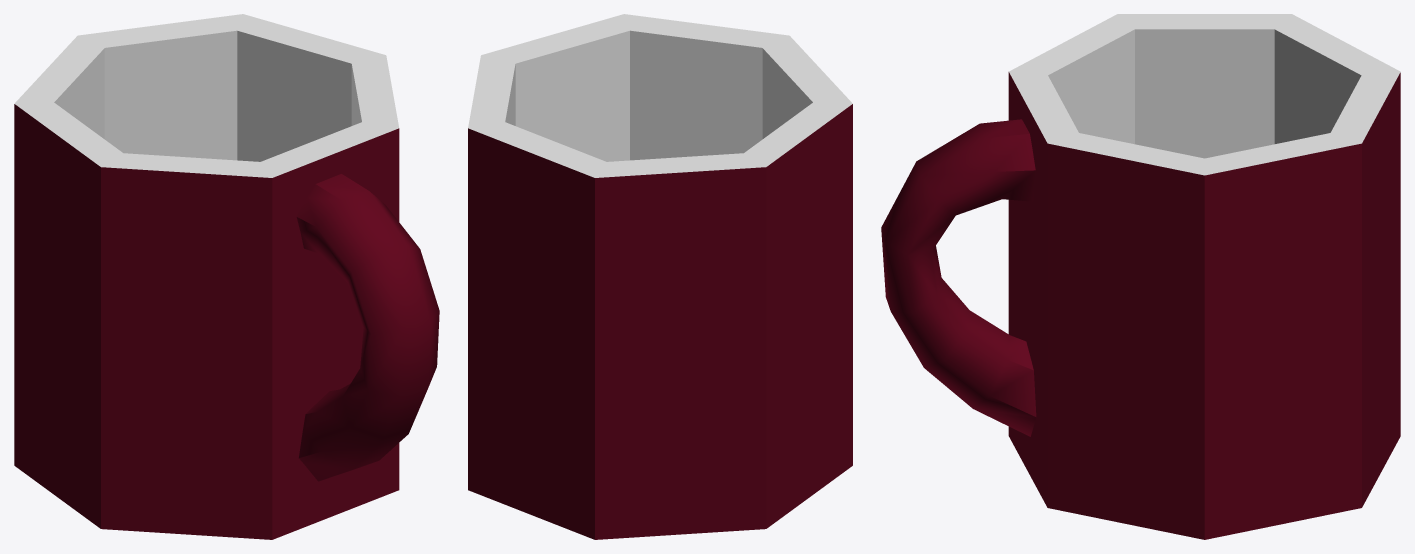
Rendered from Cup.fbx.
3 renders of one model, left to right at view 1: azimuth 30°, elevation 25°; view 2: azimuth 150°, elevation 25°; view 3: azimuth 270°, elevation 25°, orthographic.
Visible parts, largest first — view 1: Cup; view 2: Cup; view 3: Cup.
Part boxes in pixels (x1,y1,x2,y2): Cup: (14, 14, 439, 539); Cup: (468, 14, 852, 539); Cup: (881, 14, 1400, 539).
Bounding box in the file's own units: 10.46 × 11 × 14.21.
